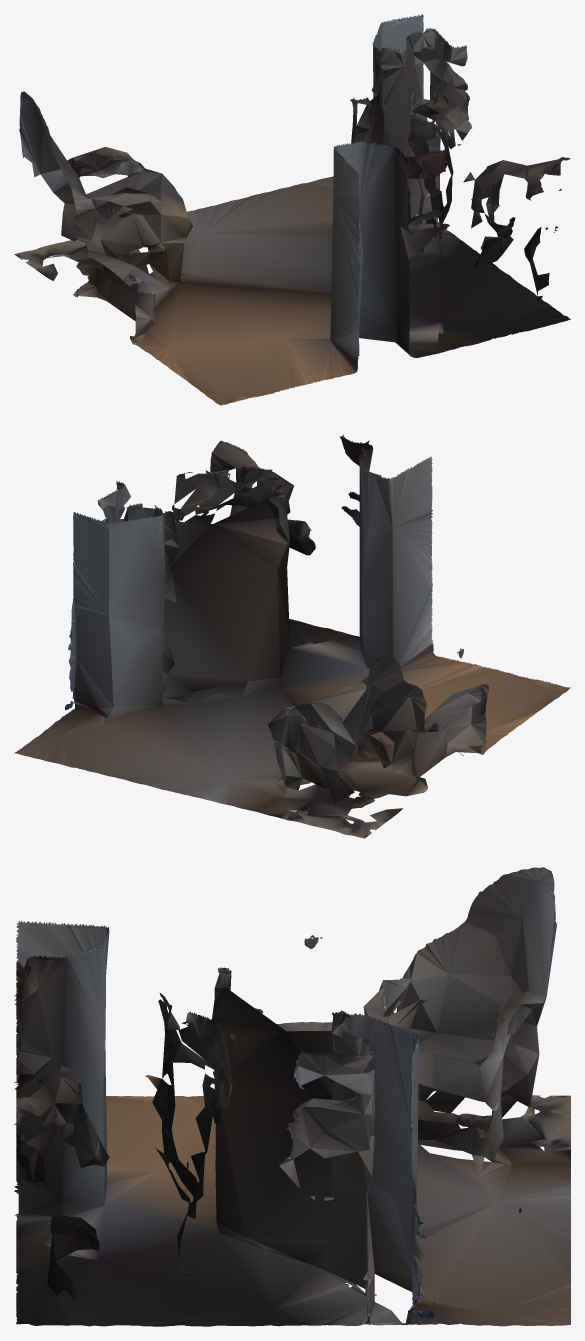
The model's file is coarse.glb.
3 renders of one model, top to bottom at view 1: azimuth 30°, elevation 25°; view 2: azimuth 150°, elevation 25°; view 3: azimuth 270°, elevation 25°, orthographic. The views are drawn at different scales.
Size of the model in its own units: 2.01 by 1.15 by 2.07.
